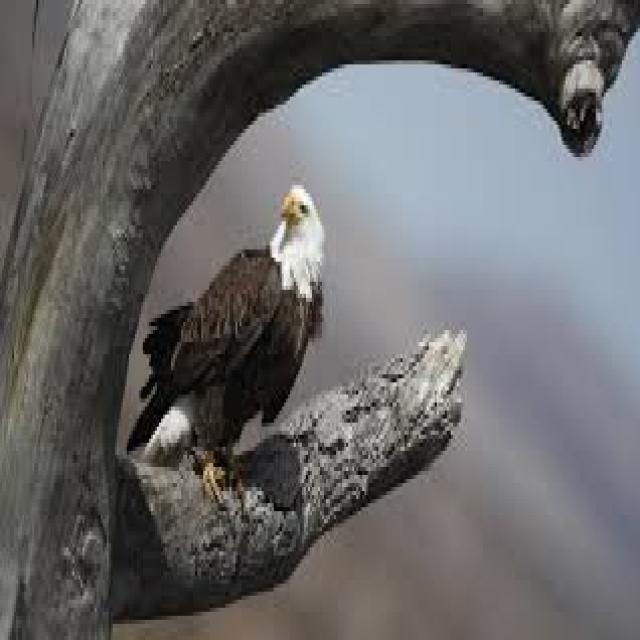Eagle: (133, 180, 328, 469)
